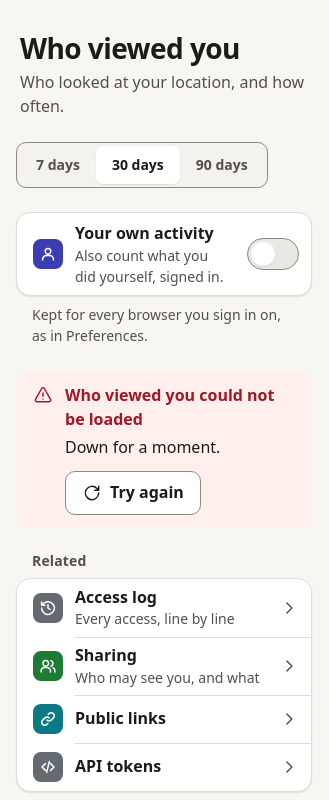
Test: Settings › Who viewed you › says why it failed, and tries again
Expected: the message shows "Who viewed you could not be loaded", 65,384 -> 274,430
Click the button "Try again" at (133, 493), box 65,471 -> 201,515
(page scrolled)
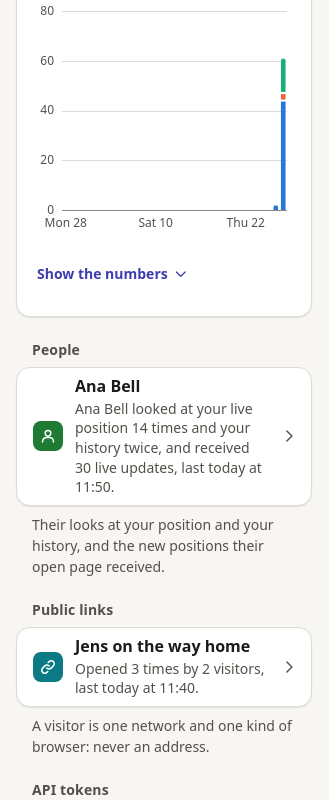
Now the list named "People" is shown, box 16,367 -> 312,506
